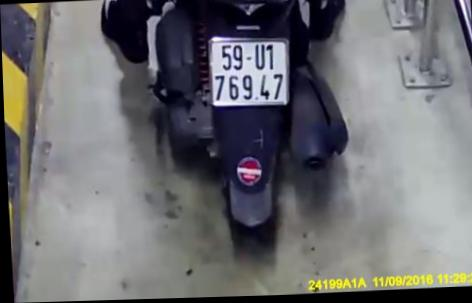LP: (202, 24, 291, 112)
